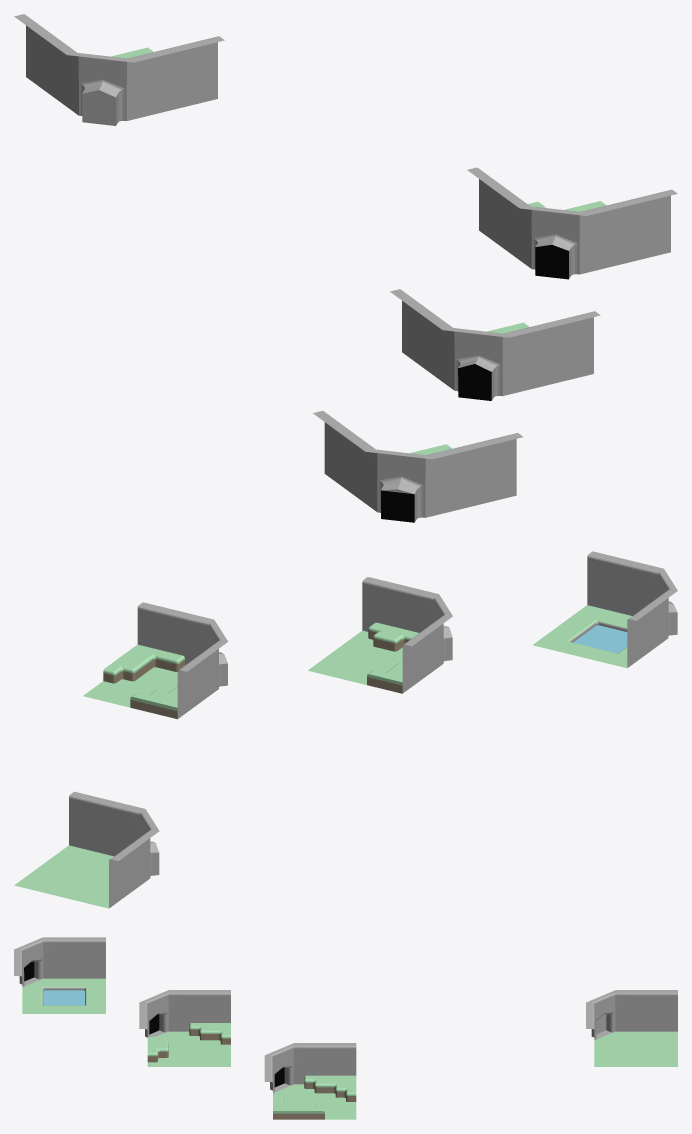
Rendered from FirstStage.fbx.
The picture shows the model from 3 angles, top to bottom: view 1: azimuth 30°, elevation 25°; view 2: azimuth 150°, elevation 25°; view 3: azimuth 270°, elevation 25°; orthographic projection. The views are drawn at different scales.
Visible parts, largest first — view 1: Stage1, Stage3, StageW, Stage2; view 2: Stage1, Stage2, StageW, Stage3, Plane; view 3: Stage1, StageW, Stage2, Stage3, Plane.
Boxes of the visible parts, bbox=[...] form: Stage1: bbox=[467, 167, 677, 279]; Stage3: bbox=[313, 411, 523, 522]; StageW: bbox=[14, 14, 224, 125]; Stage2: bbox=[390, 289, 600, 400]; Stage1: bbox=[83, 602, 228, 719]; Stage2: bbox=[308, 577, 452, 693]; StageW: bbox=[14, 791, 159, 908]; Stage3: bbox=[532, 551, 677, 668]; Plane: bbox=[573, 625, 627, 653]; Stage1: bbox=[264, 1043, 356, 1119]; StageW: bbox=[586, 990, 677, 1066]; Stage2: bbox=[139, 990, 230, 1066]; Stage3: bbox=[14, 937, 105, 1013]; Plane: bbox=[43, 990, 84, 1005].
Bounding box in the file's own units: 8200 × 1200 × 15900.
